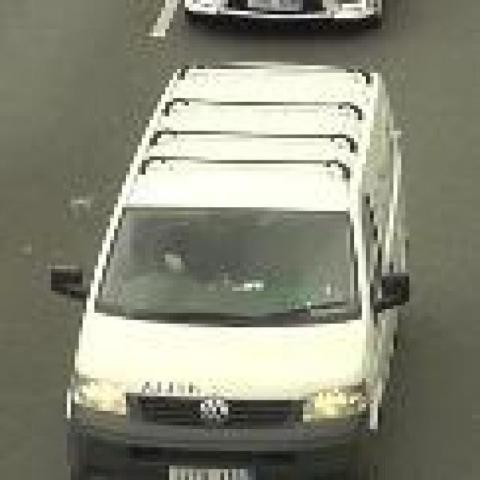van: (69, 62, 404, 480)
